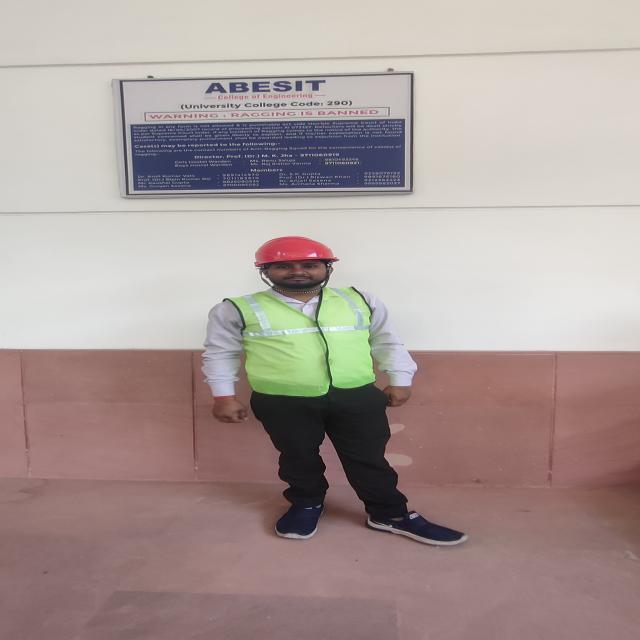safe: (222, 236, 390, 539)
